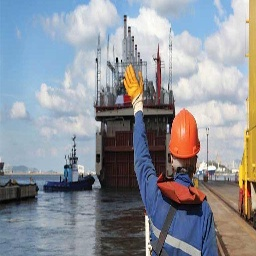helmet: (166, 110, 202, 164)
no-vest: (143, 179, 222, 256)
person: (129, 105, 222, 256)
